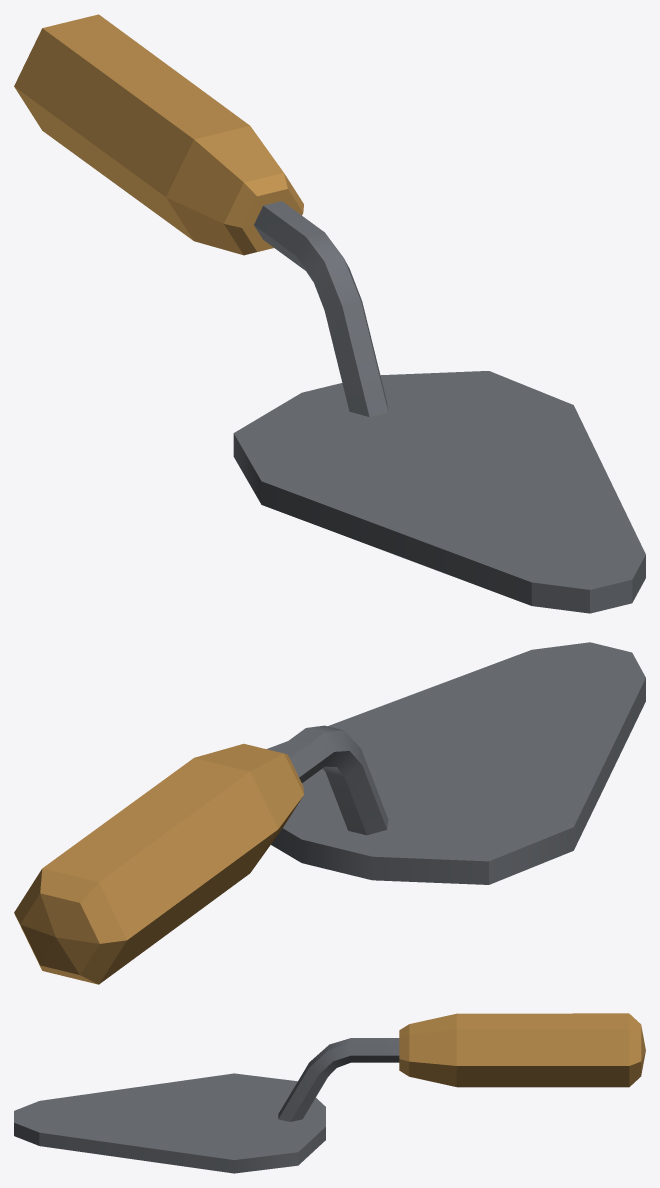
The model's file is SM_Tool_Trowel_02.fbx.
The picture shows the model from 3 angles, top to bottom: view 1: azimuth 30°, elevation 25°; view 2: azimuth 150°, elevation 25°; view 3: azimuth 270°, elevation 25°; orthographic projection. The views are drawn at different scales.
Parts seen in each view (by area): view 1: SM_Tool_Trowel_02; view 2: SM_Tool_Trowel_02; view 3: SM_Tool_Trowel_02.
Part boxes in pixels (x1,y1,x2,y2): SM_Tool_Trowel_02: (14, 14, 645, 613); SM_Tool_Trowel_02: (14, 642, 645, 984); SM_Tool_Trowel_02: (14, 1013, 645, 1173).
Size of the model in its own units: 14.26 by 8.35 by 43.91.
